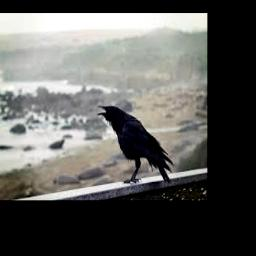Crow: (96, 104, 175, 185)
